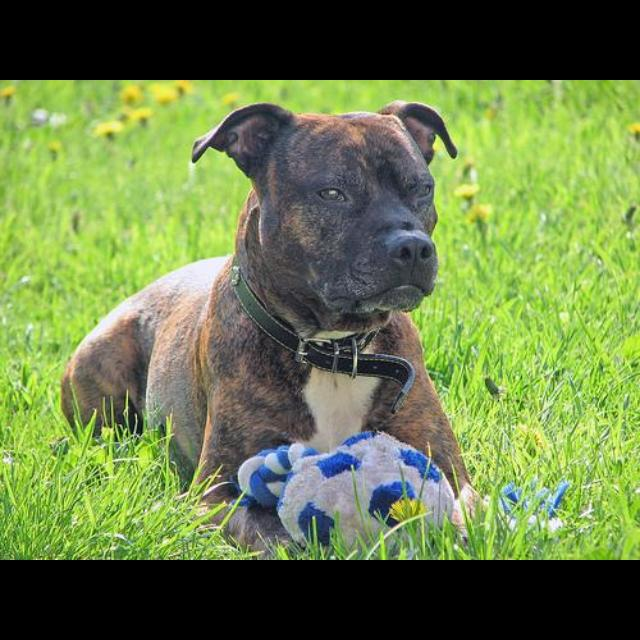amstaff: (60, 100, 486, 559)
